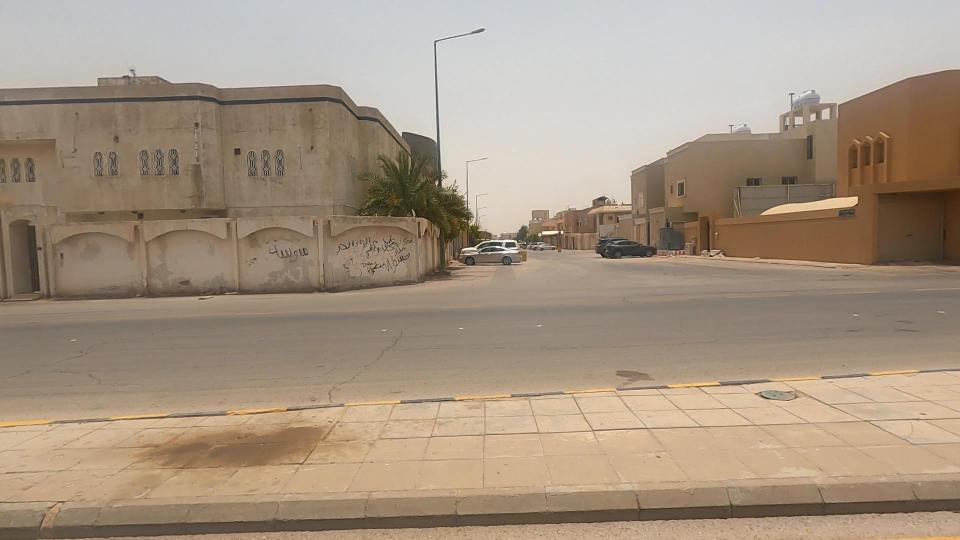GRAFFITI: (289, 198, 461, 309), (228, 215, 343, 296)
